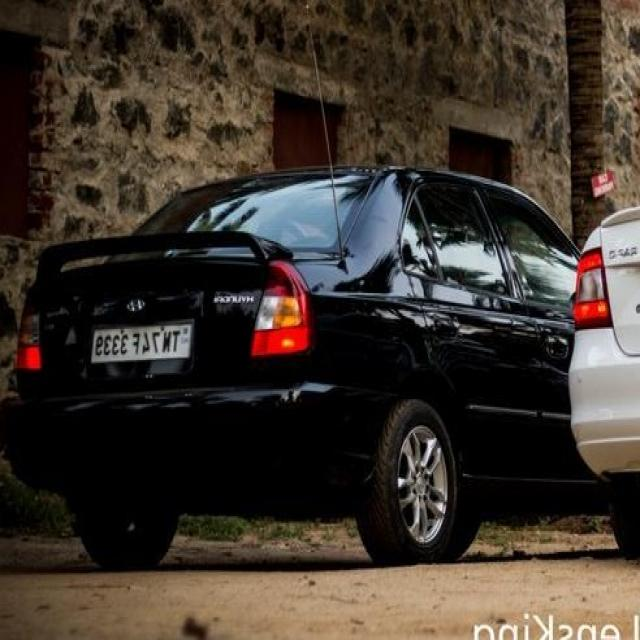license_plate: (80, 313, 198, 368)
